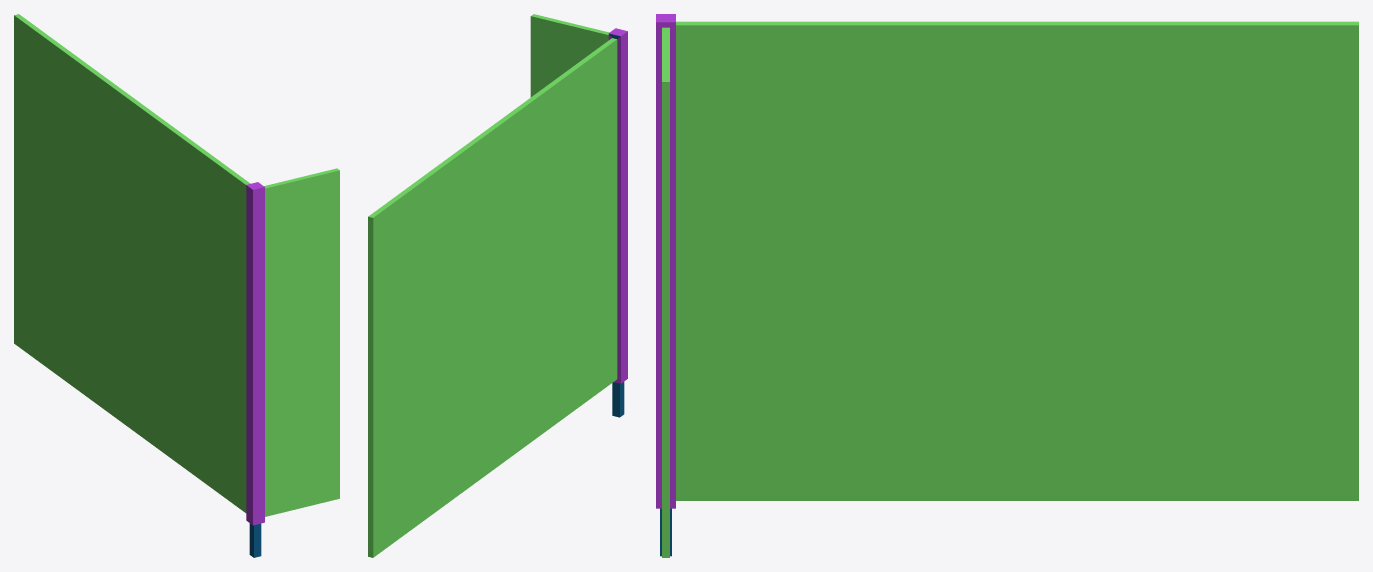
3 renders of one model, left to right at view 1: azimuth 30°, elevation 25°; view 2: azimuth 150°, elevation 25°; view 3: azimuth 270°, elevation 25°, orthographic. The views are drawn at different scales.
Parts seen in each view (by area): view 1: Cube.002; view 2: Cube.002; view 3: Cube.002.
Part boxes in pixels (x1,y1,x2,y2): Cube.002: [14, 14, 339, 557]; Cube.002: [368, 14, 627, 557]; Cube.002: [656, 14, 1358, 557].
Size of the model in its own units: 54.55 by 217 by 258.
